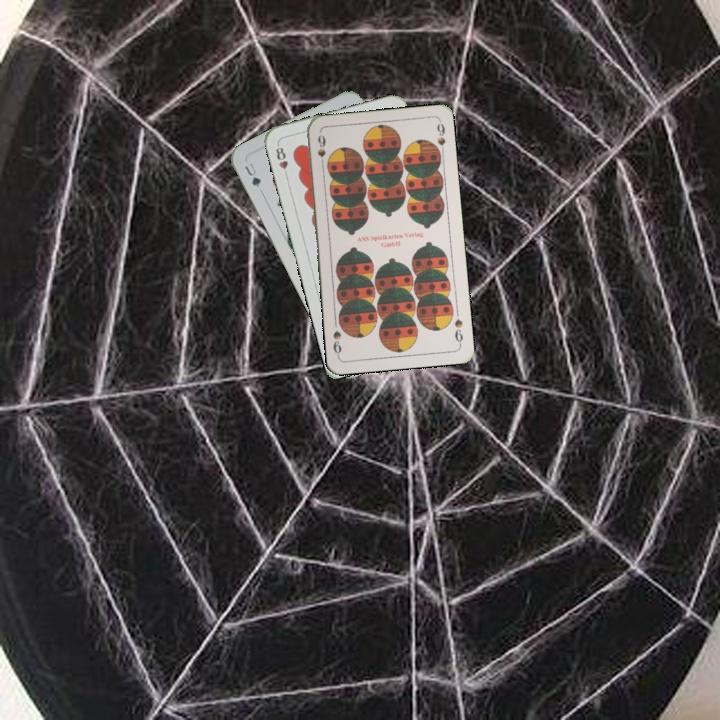GU: (240, 159, 263, 190)
H8: (272, 140, 291, 180)
S9: (314, 130, 328, 170), (450, 315, 465, 347)
